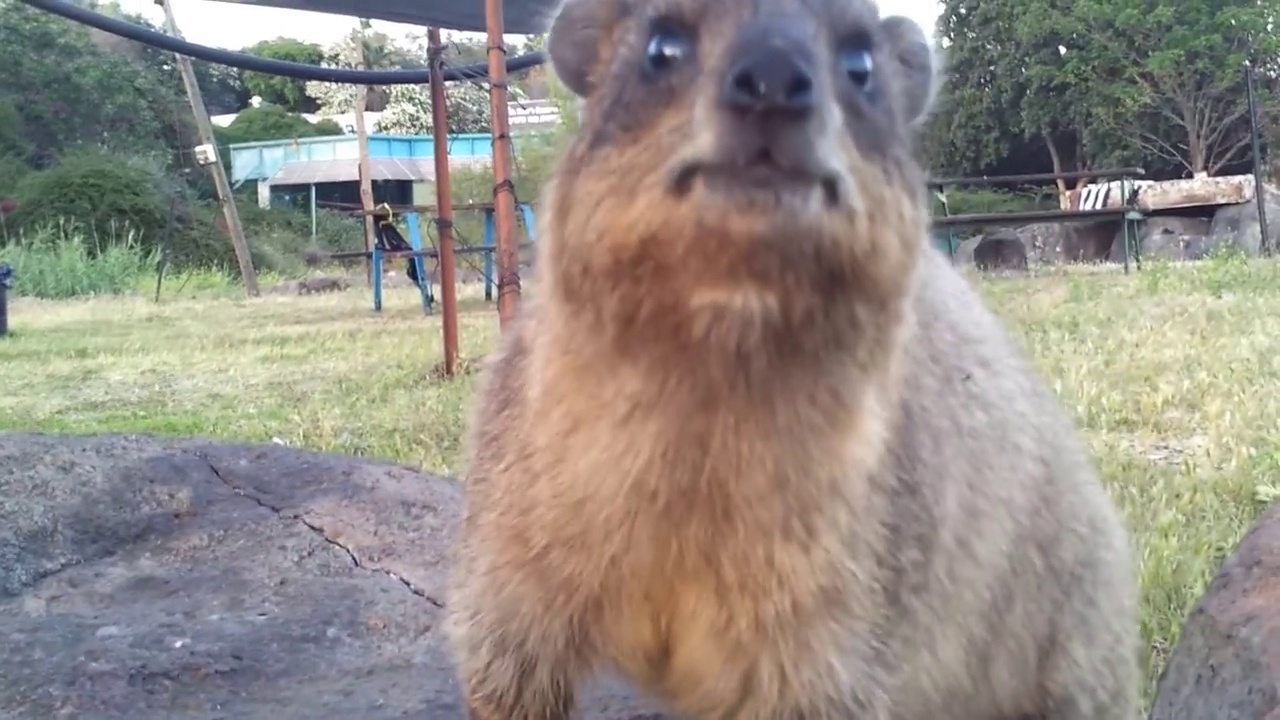Rock Hyrex: (441, 1, 1147, 720)
